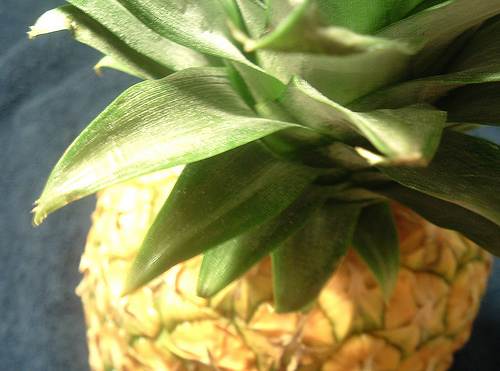pineapple: (24, 0, 499, 370)
